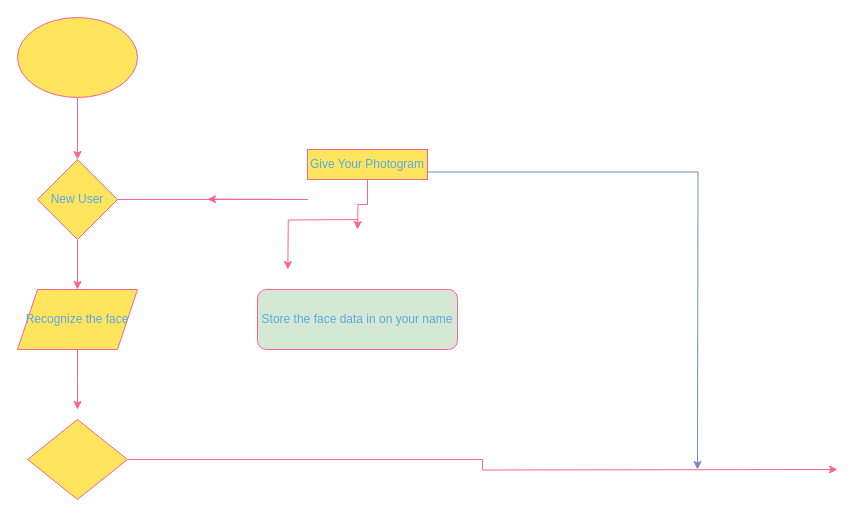
This 863x517 diagram has some shape labels left out. Here are the shapes that lost their labels. From the top down, the box of each, then its label:
(16, 16, 138, 98): Start
(26, 418, 128, 500): Recognized Face
